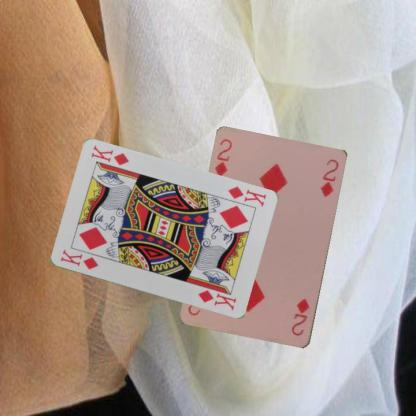2d: (288, 296, 312, 338), (212, 136, 233, 178)
Kd: (225, 184, 268, 208), (58, 247, 100, 271)
